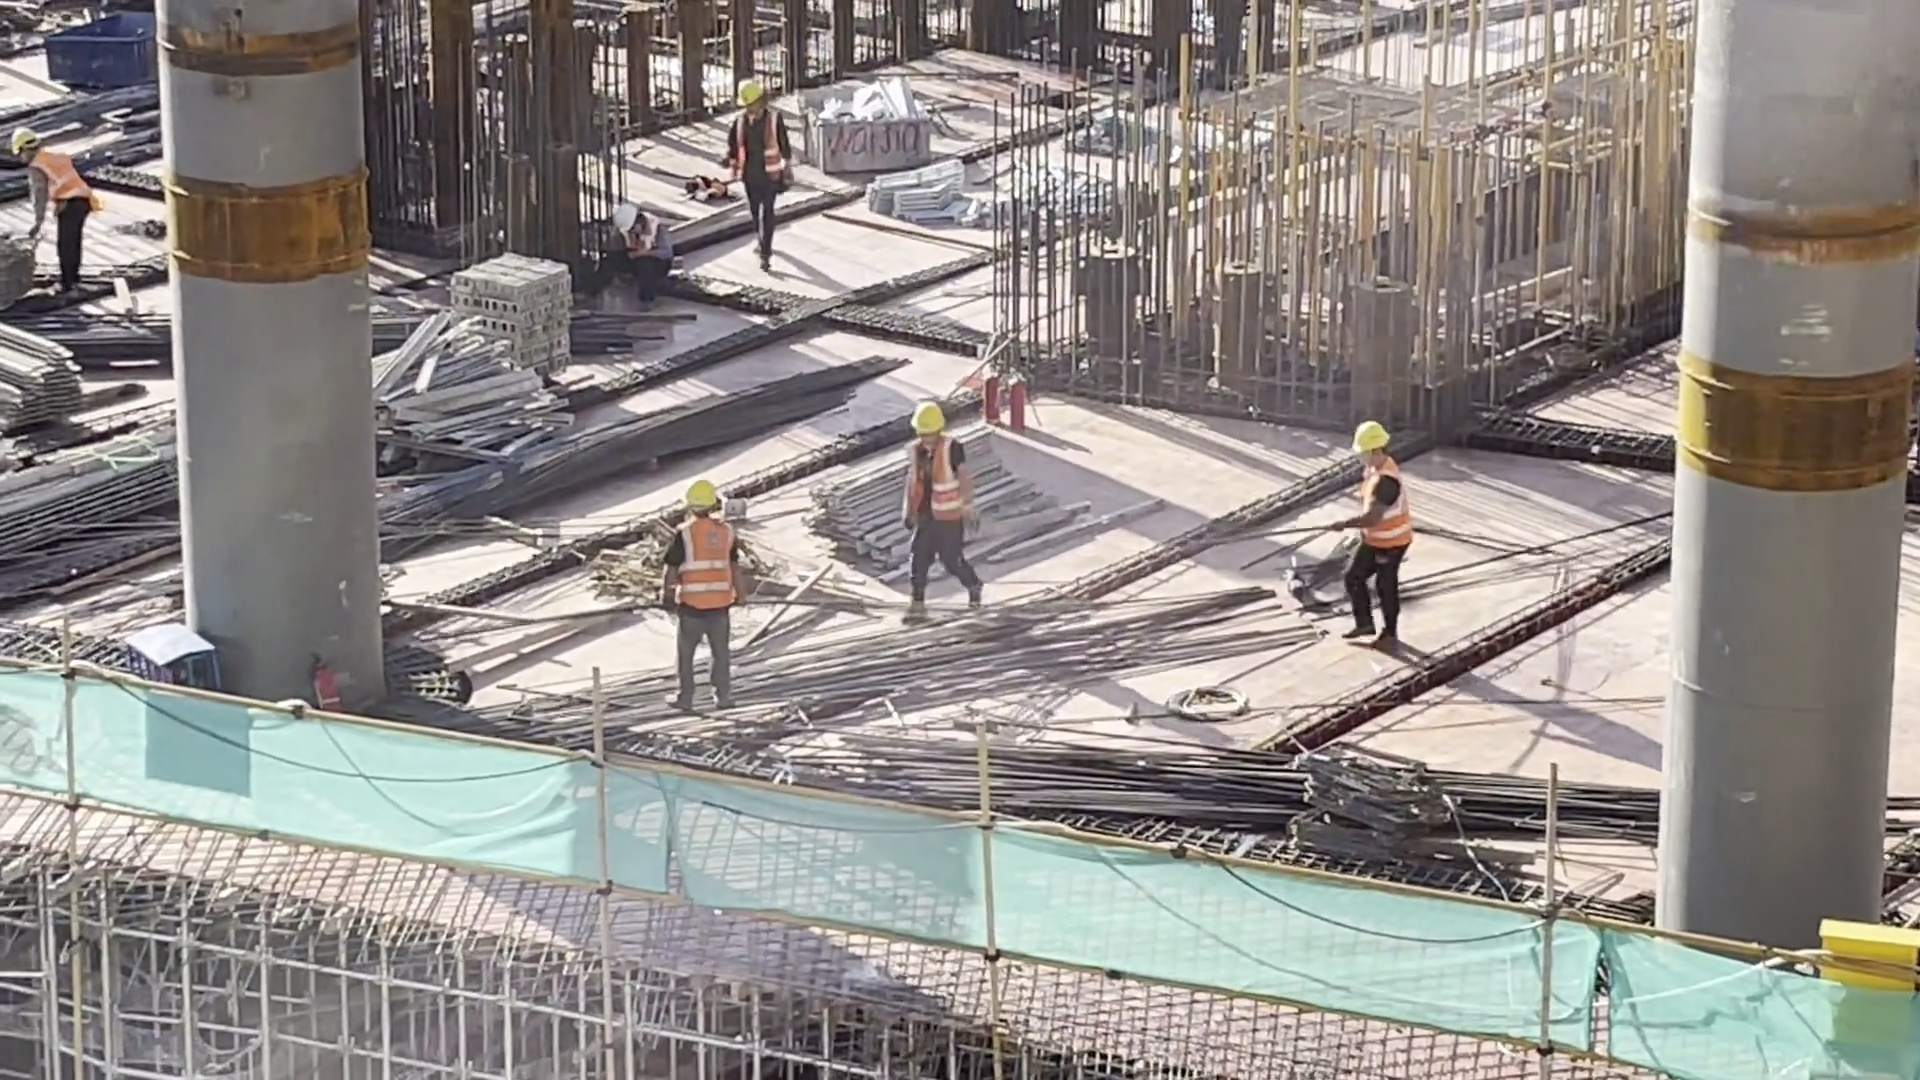helmet: (908, 400, 946, 445), (1348, 423, 1389, 459), (5, 118, 39, 160), (606, 201, 644, 239), (681, 479, 716, 511), (730, 76, 763, 104)
hopper: (801, 74, 958, 178), (43, 11, 158, 97)
person: (888, 390, 991, 634), (704, 64, 803, 272), (663, 479, 747, 723), (1336, 411, 1418, 650), (7, 130, 86, 287), (592, 205, 681, 305)
vest: (663, 518, 738, 622), (894, 439, 970, 530), (1348, 476, 1408, 553), (34, 155, 97, 216), (735, 104, 781, 183)
wood: (814, 435, 1070, 575), (1808, 909, 1920, 1057)
